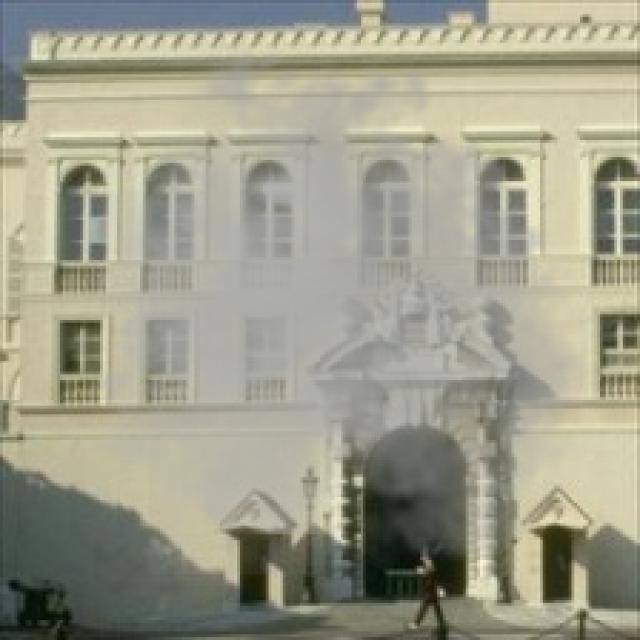Smoke: (51, 32, 608, 574)
